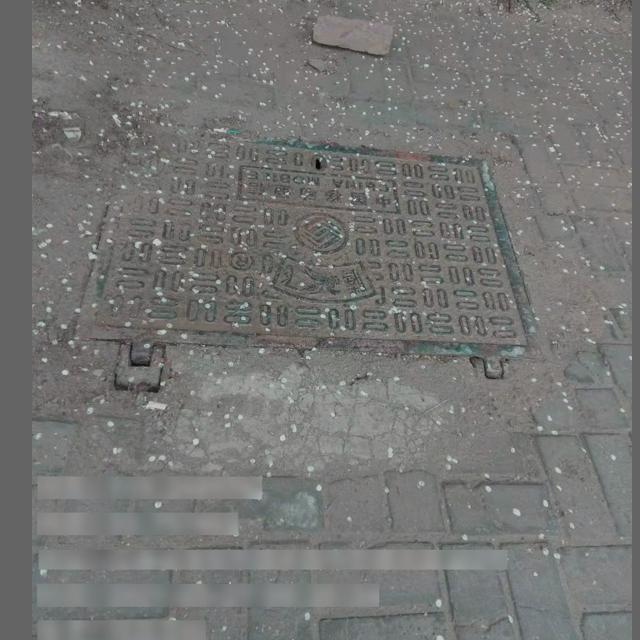good: (72, 129, 539, 389)
